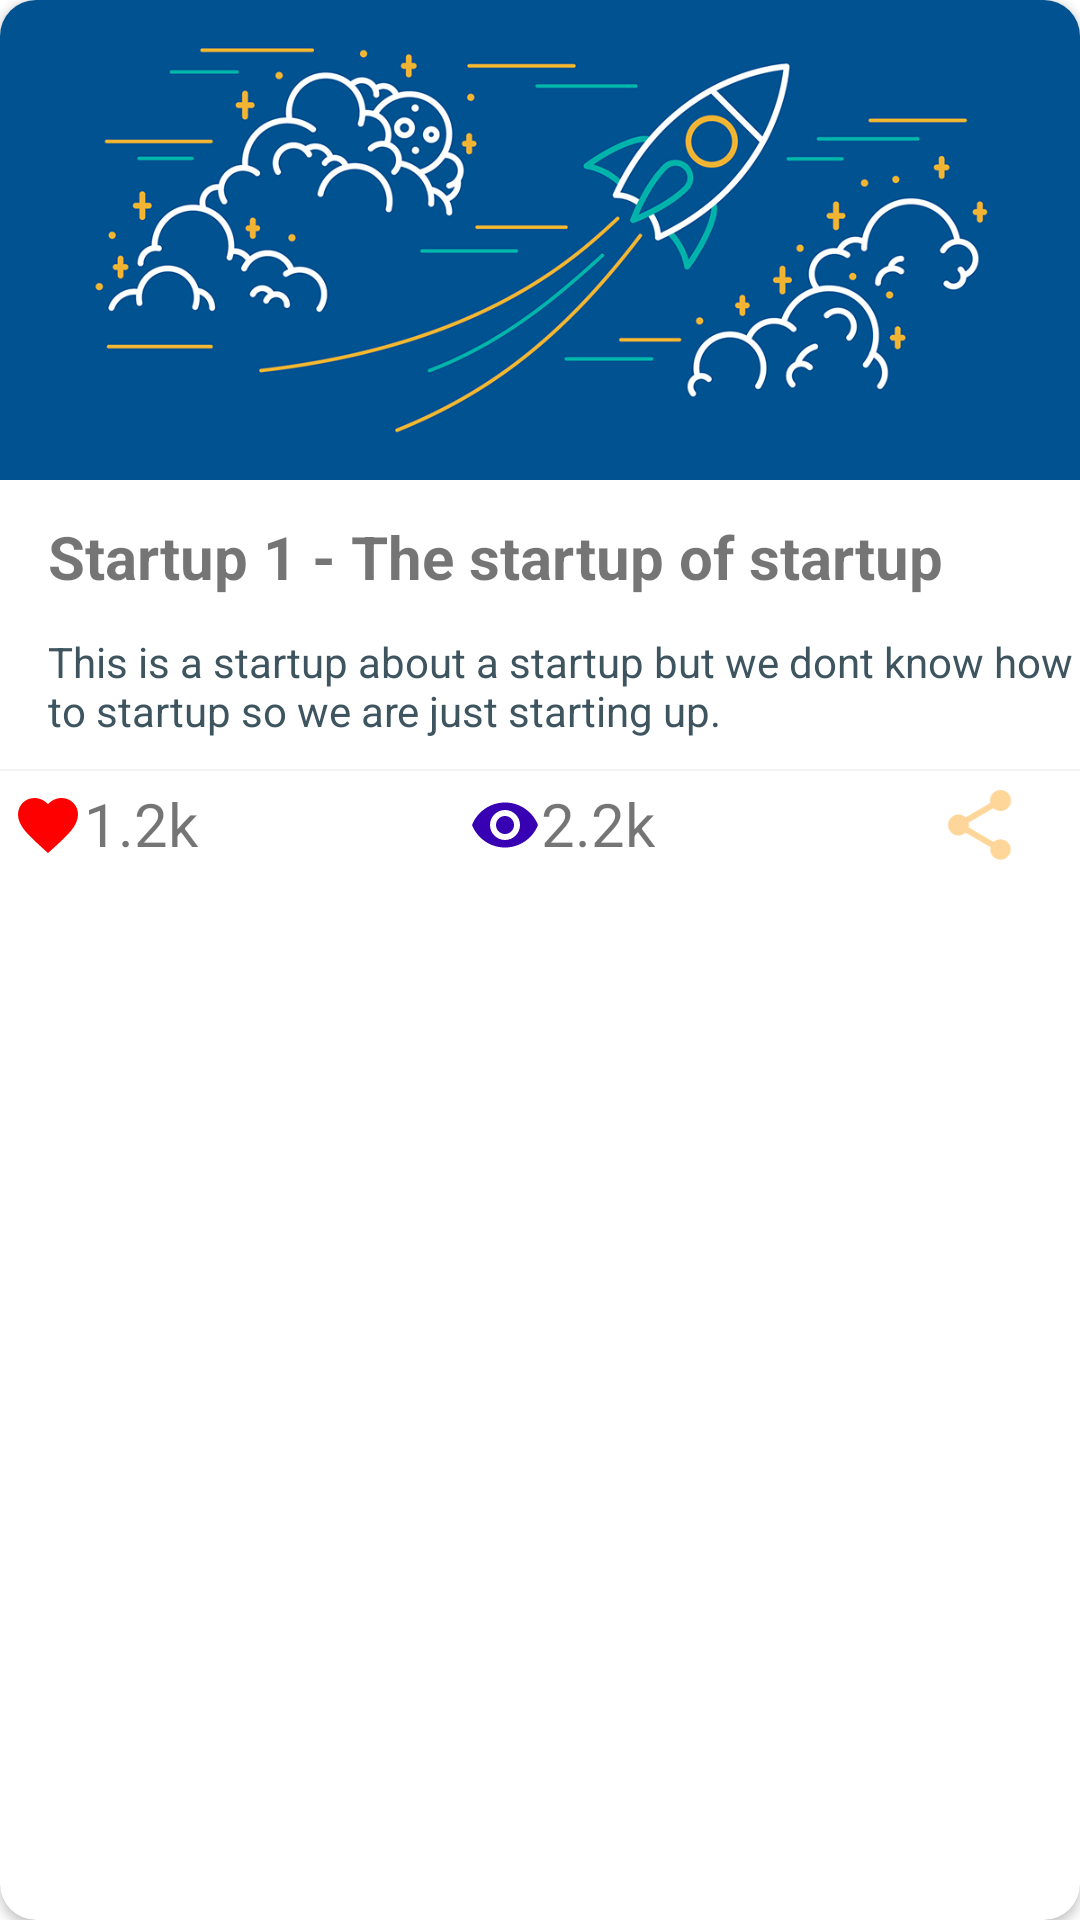

Icon click points for this 1080w x 1920h phone screenshot, format [x,y]:
share: [979,825]
